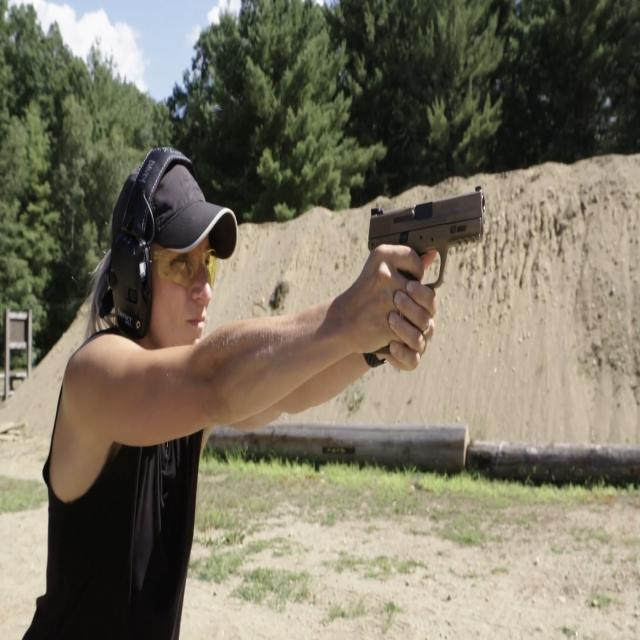Gun_Holder: (357, 165, 492, 344)
Person: (49, 147, 412, 640)
